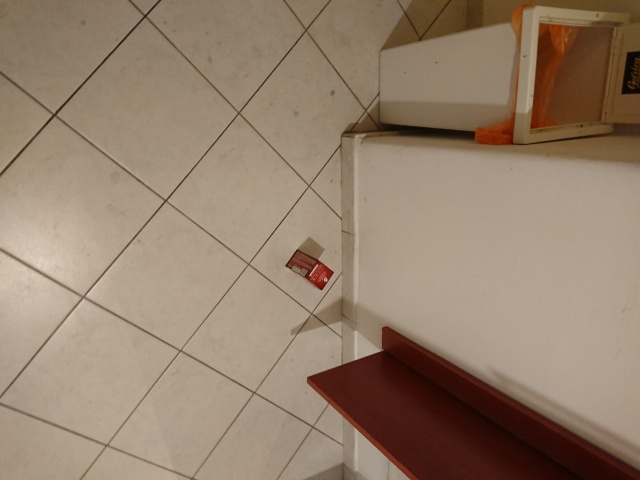Franck Apple Cinnamon Tea 60g: (282, 246, 336, 292)
